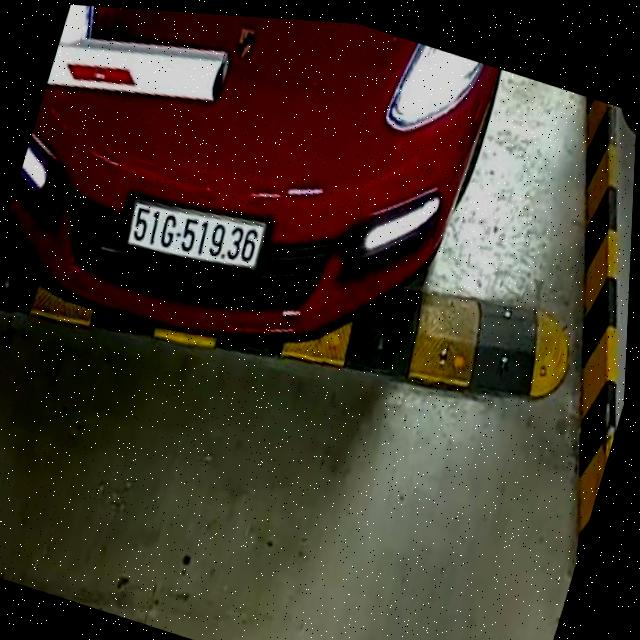car: (0, 0, 517, 414)
plate: (116, 178, 272, 285)
